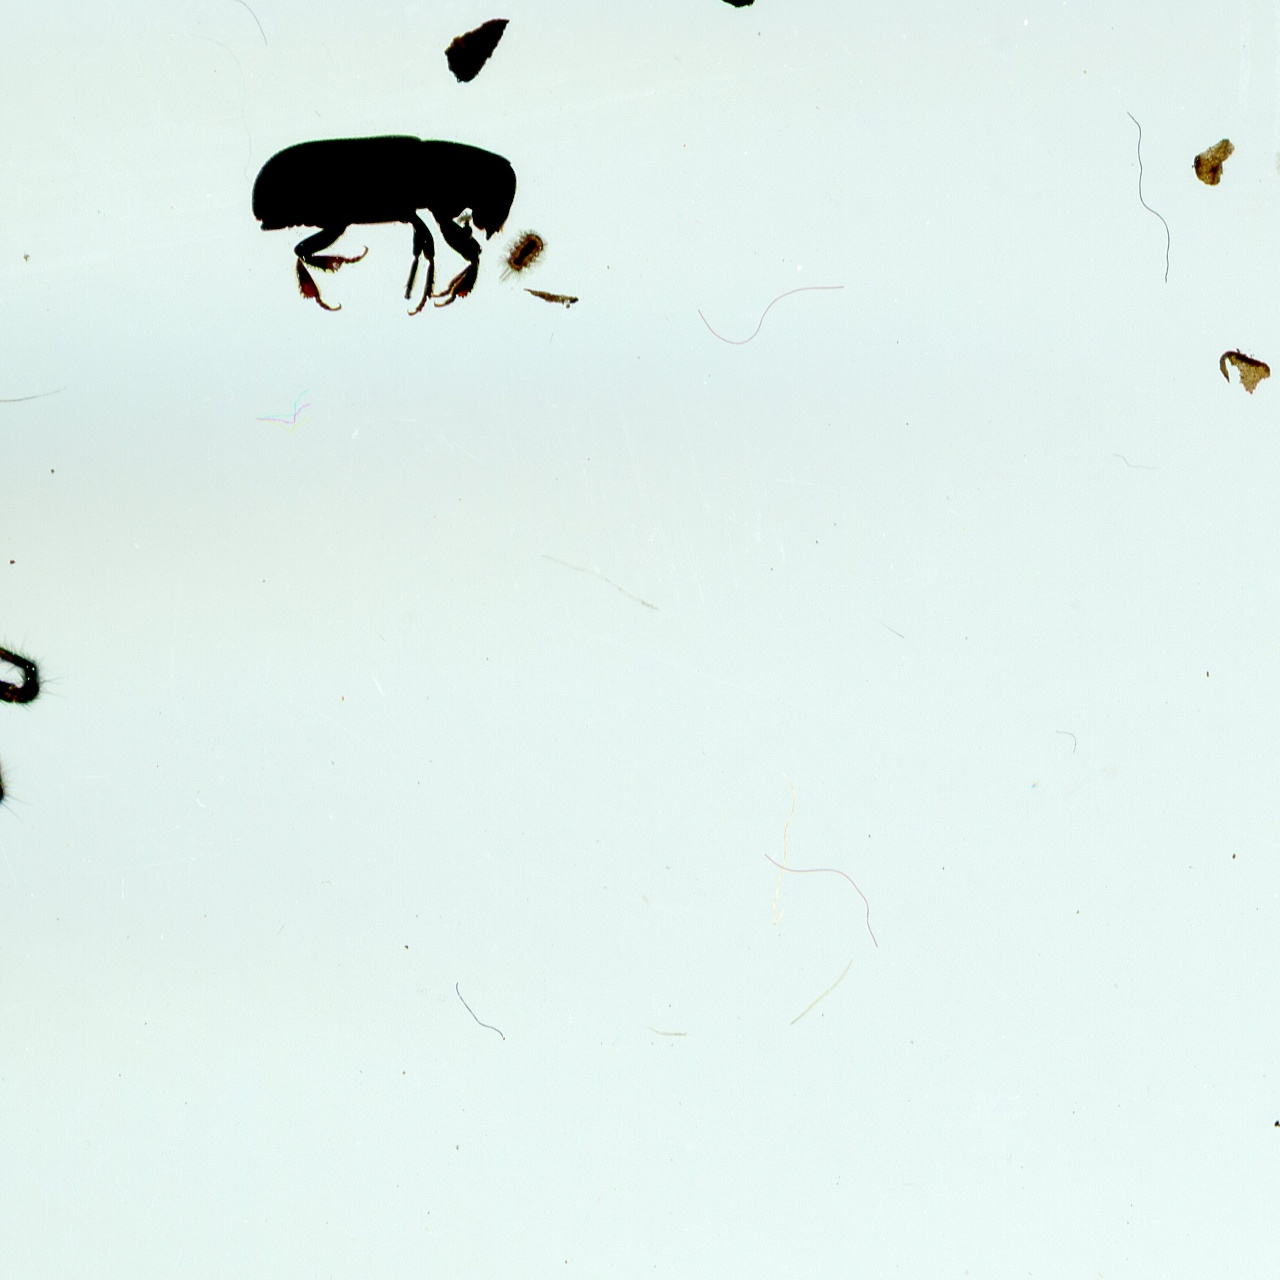arthropod: (240, 127, 523, 312), (0, 454, 51, 843), (501, 228, 545, 289), (1276, 136, 1280, 170)
